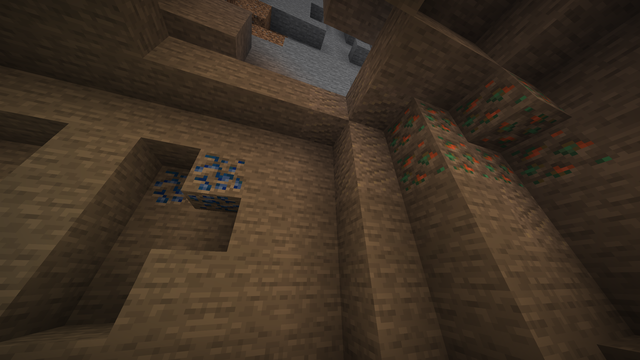copper: (384, 69, 614, 186)
lapis: (144, 149, 248, 206)
